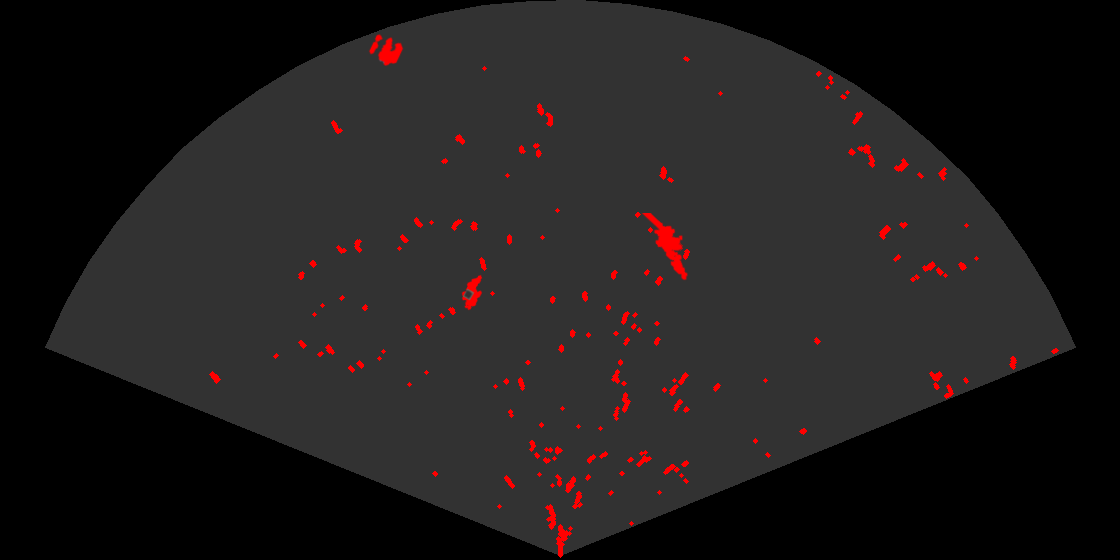AUV: (460, 273, 484, 312)
ball: (367, 32, 405, 68)
frogman: (640, 213, 690, 282)
